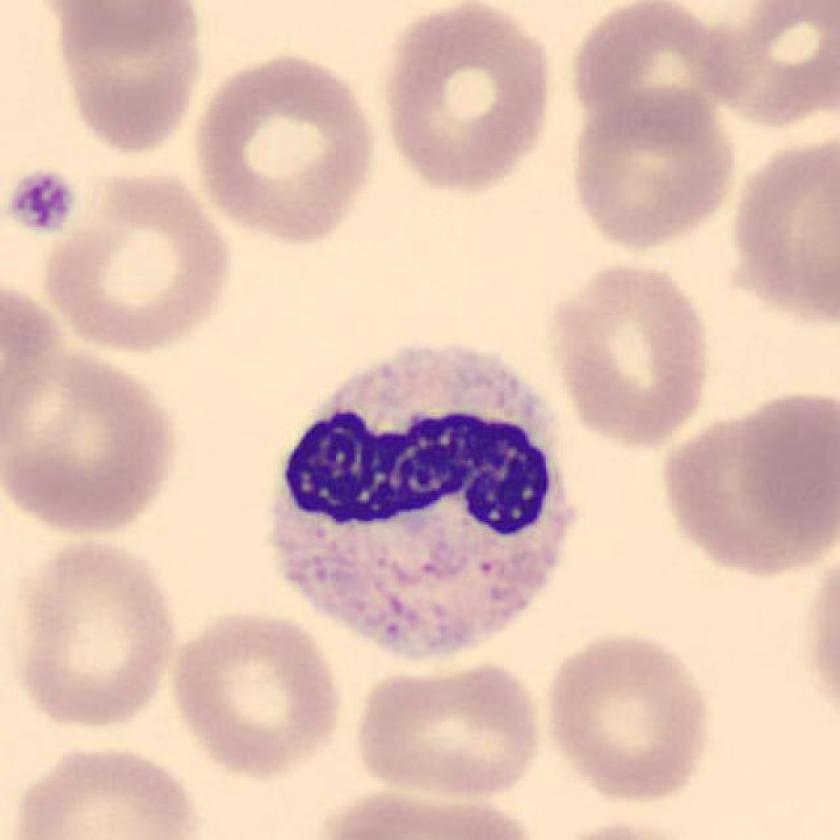neutrophil: (272, 349, 571, 655)
